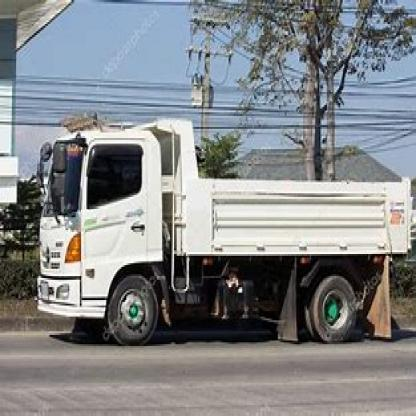dump_truck: (23, 105, 412, 350)
